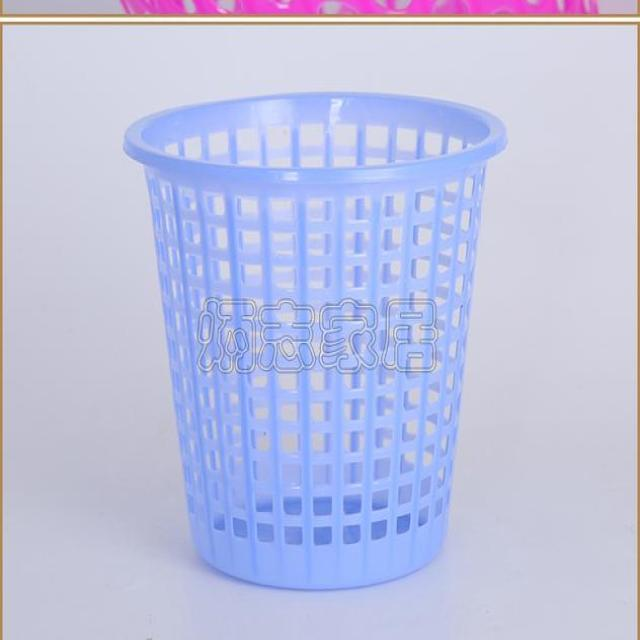dustbin: (119, 90, 512, 599)
